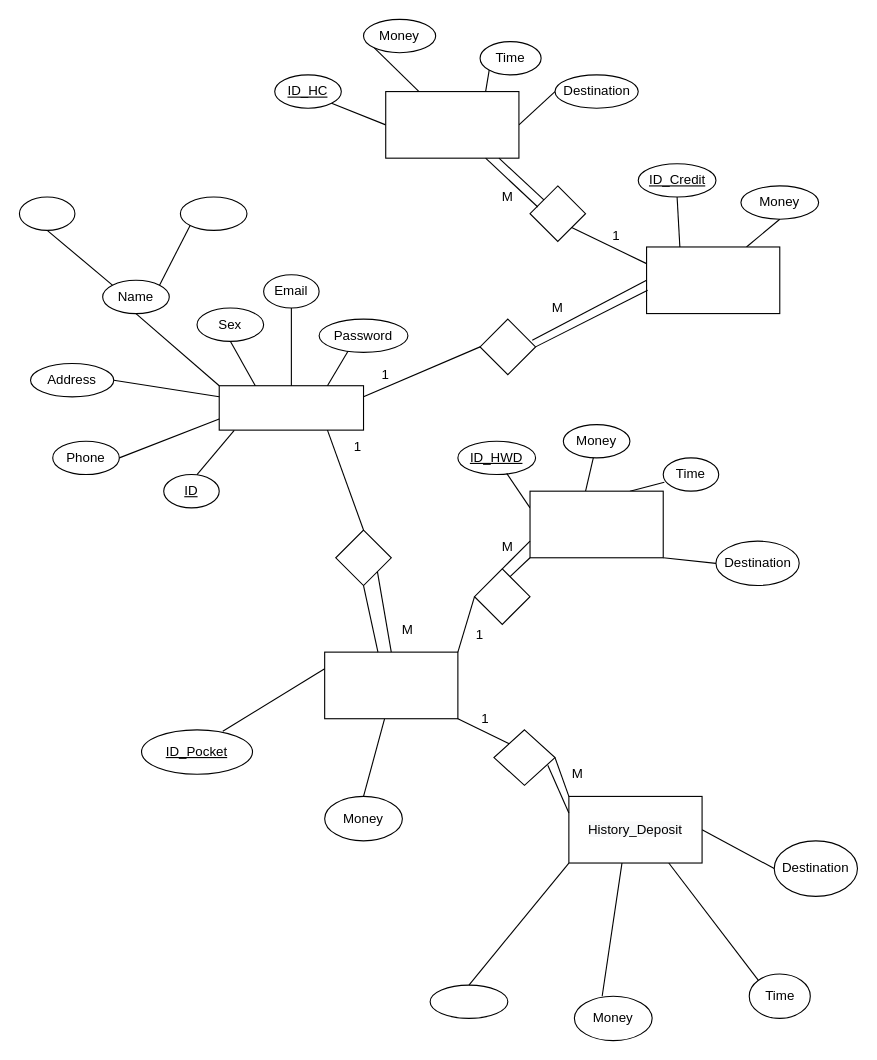
Some shapes in this 877 by 1060 pixel diagram are drawn without their labels. Each missing label, with the centre of its shape:
"Credit" belongs at [712,280].
"Fname" belongs at [46,213].
"History_Credit" belongs at [452,124].
"History_WithDraw" belongs at [596,524].
"ID_HD" belongs at [468,1001].
"Lname" belongs at [213,213].
"Pocket" belongs at [391,685].
"User_Account" belongs at [291,407].
